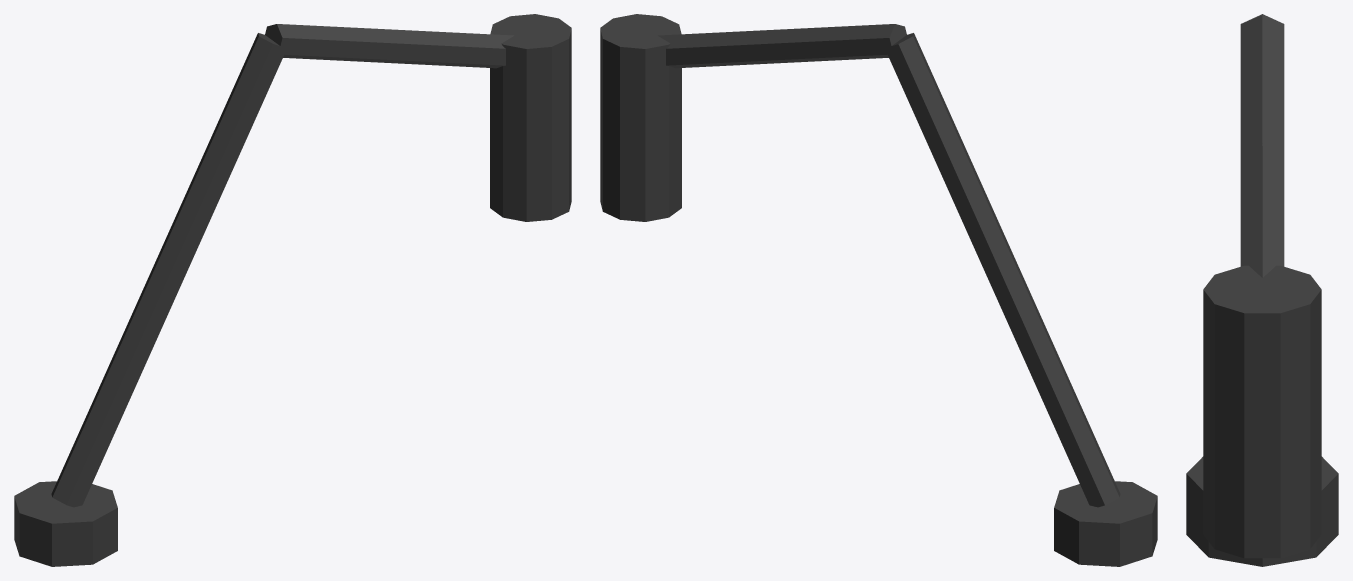
The picture shows the model from 3 angles, left to right: view 1: azimuth 30°, elevation 25°; view 2: azimuth 150°, elevation 25°; view 3: azimuth 270°, elevation 25°; orthographic projection. The views are drawn at different scales.
Visible parts, largest first — view 1: Arm, Microphone, Arm.001, Clamp; view 2: Arm, Microphone, Arm.001, Clamp; view 3: Microphone, Arm.001, Clamp.
Part boxes in pixels (x1,y1,x2,y2): Arm: [51, 33, 283, 507]; Microphone: [490, 14, 571, 221]; Arm.001: [265, 24, 513, 68]; Clamp: [14, 481, 117, 566]; Arm: [885, 33, 1120, 507]; Microphone: [600, 14, 681, 221]; Arm.001: [658, 24, 906, 68]; Clamp: [1054, 481, 1157, 566]; Microphone: [1203, 265, 1321, 558]; Arm.001: [1240, 15, 1284, 277]; Clamp: [1186, 456, 1338, 566].
Bounding box in the file's own units: 0.5283 × 0.4344 × 0.09.
1 material, 1 textured.
